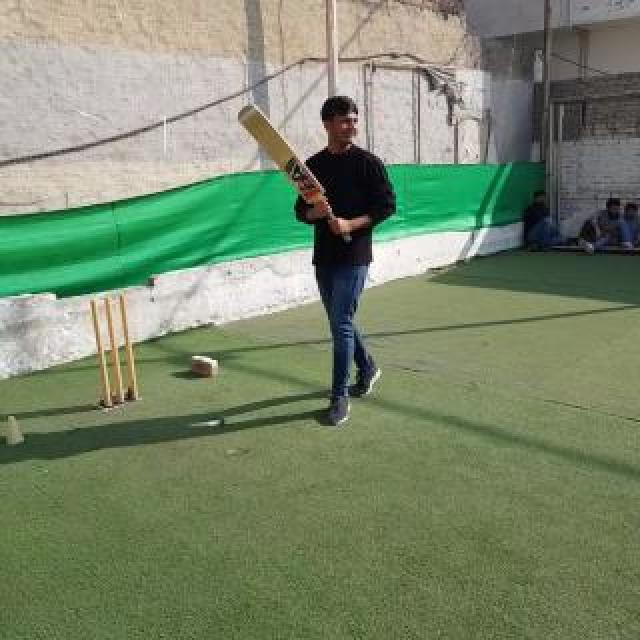bat: (238, 104, 352, 244)
